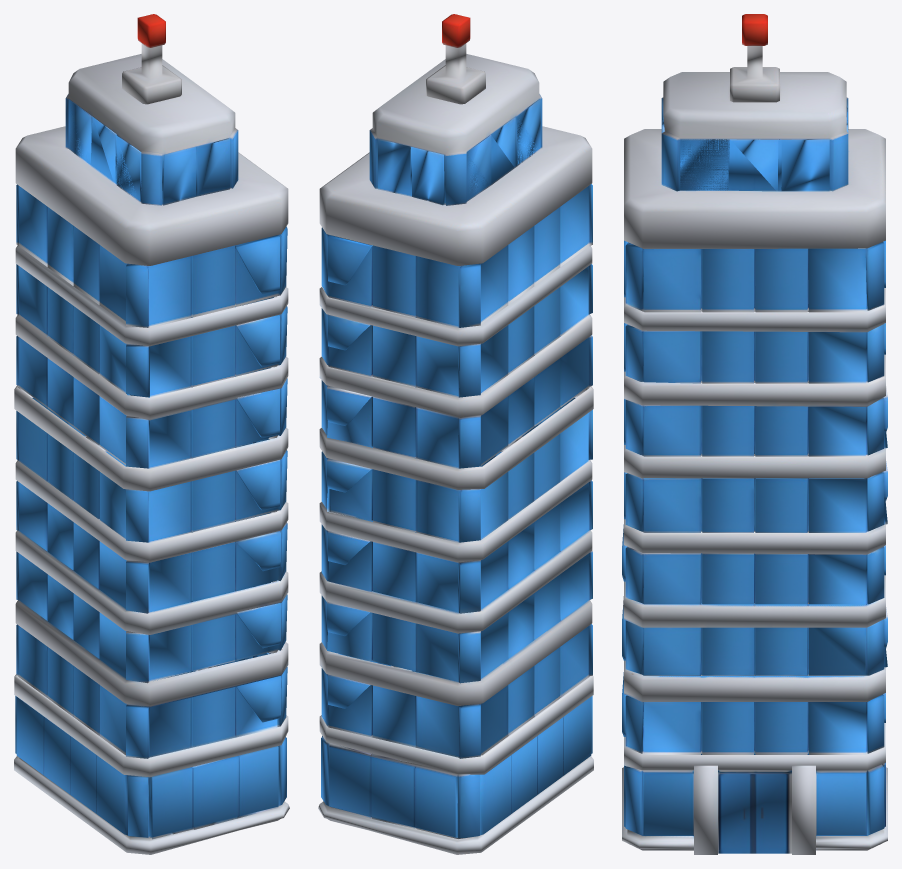
The model's file is skyscraper_v3.glb.
3 renders of one model, left to right at view 1: azimuth 30°, elevation 25°; view 2: azimuth 150°, elevation 25°; view 3: azimuth 270°, elevation 25°, orthographic. The views are drawn at different scales.
Parts seen in each view (by area): view 1: tripo_node_447feb71-00f4-44c6-899b-8d87b5620e47; view 2: tripo_node_447feb71-00f4-44c6-899b-8d87b5620e47; view 3: tripo_node_447feb71-00f4-44c6-899b-8d87b5620e47.
Part boxes in pixels (x1,y1,x2,y2): tripo_node_447feb71-00f4-44c6-899b-8d87b5620e47: (14, 14, 289, 854); tripo_node_447feb71-00f4-44c6-899b-8d87b5620e47: (318, 14, 593, 854); tripo_node_447feb71-00f4-44c6-899b-8d87b5620e47: (622, 14, 887, 854).
Bounding box in the file's own units: 0.2285 × 0.998 × 0.3027.
1 material, 1 textured.
